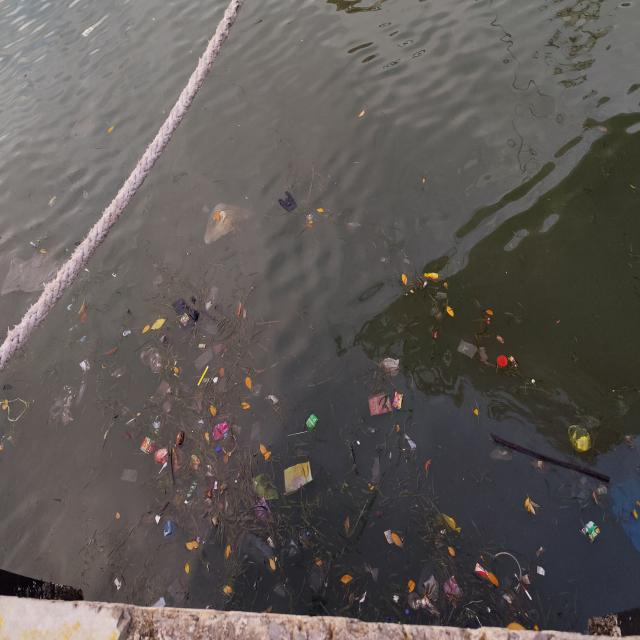Bungkus Makanan: (284, 463, 314, 496), (582, 521, 602, 547), (476, 562, 492, 583), (141, 439, 158, 458), (393, 390, 405, 412), (190, 454, 203, 474), (430, 307, 444, 324), (423, 271, 441, 283), (307, 414, 319, 431), (79, 359, 92, 374), (181, 313, 191, 328)
Bungkus Minuman: (479, 346, 490, 364), (595, 483, 608, 497), (438, 291, 451, 305), (124, 330, 132, 339)
Kantong Plastik: (203, 203, 249, 247), (415, 561, 443, 617), (51, 385, 80, 430), (171, 299, 201, 332), (568, 422, 594, 454), (140, 348, 166, 375), (369, 390, 393, 418), (278, 191, 300, 215), (379, 356, 401, 379), (457, 339, 479, 360), (492, 446, 514, 464), (164, 519, 180, 542), (122, 467, 139, 483)
